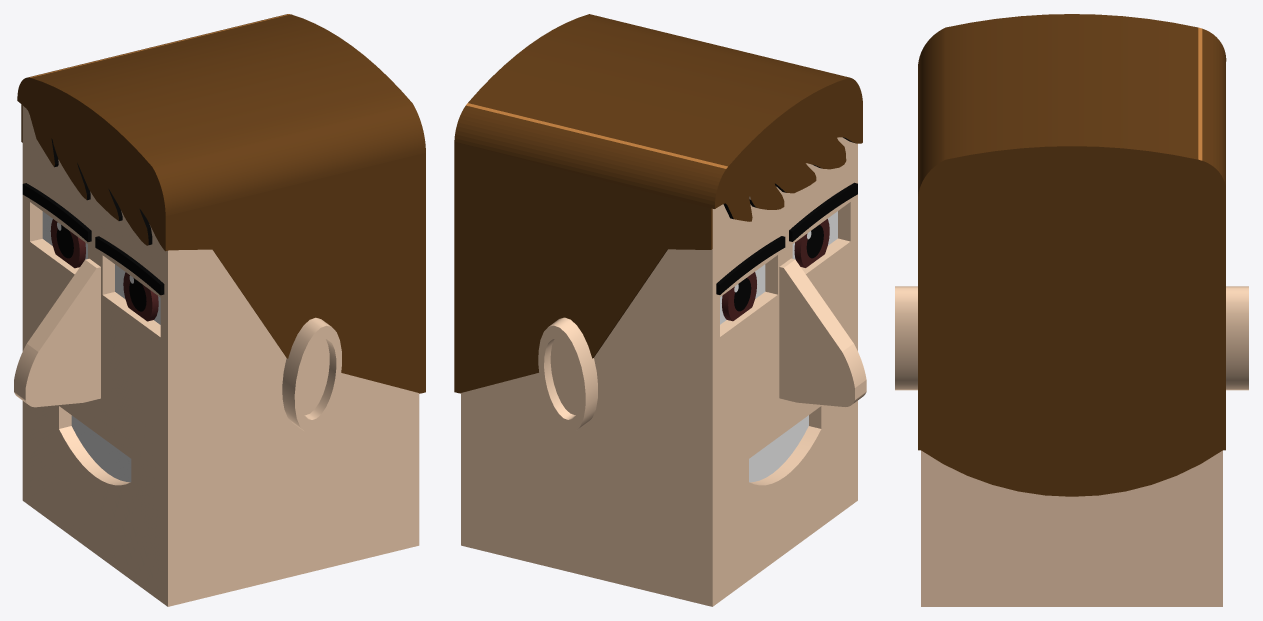
Rendered from head.dae.
3 views of the same model, side by side, from view 1: azimuth 30°, elevation 25°; view 2: azimuth 150°, elevation 25°; view 3: azimuth 270°, elevation 25° (orthographic). The views are drawn at different scales.
Visible parts, largest first — view 1: group_0 (×7), group_5 (×2), group_4, group_3, group_2, group_1; view 2: group_0 (×10), group_6 (×2), group_3, group_4, group_1, group_2; view 3: group_0 (×4), group_5, group_6.
Boxes of the visible parts, x1,y1,x2,y2 form: group_0 (×7): (14,14,425,606); group_5 (×2): (282,317,341,432); group_4: (95,236,164,295); group_3: (22,183,91,241); group_2: (123,272,158,321); group_1: (50,219,85,268); group_0 (×10): (454,14,866,606); group_6 (×2): (538,317,597,432); group_3: (716,236,785,294); group_4: (789,182,857,241); group_1: (722,272,756,321); group_2: (794,219,829,267); group_0 (×4): (918,14,1226,606); group_5: (895,286,917,390); group_6: (1226,286,1248,390).
Bounding box in the file's own units: 8.31 × 7.38 × 10.66.
